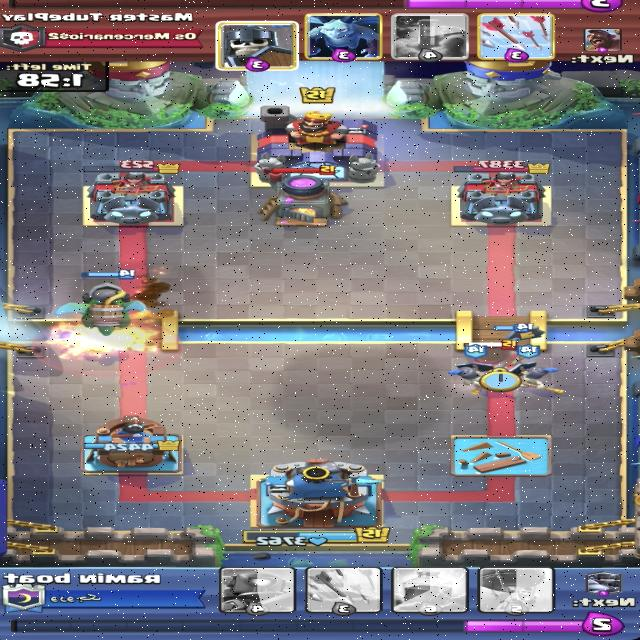Enemy-Furnace: (255, 165, 348, 228)
Enemy-Musketeer: (469, 339, 522, 373)
Player-Guard: (507, 344, 568, 396), (448, 344, 497, 395), (492, 321, 535, 364)
Player-InfernoDragon: (54, 269, 148, 336)
